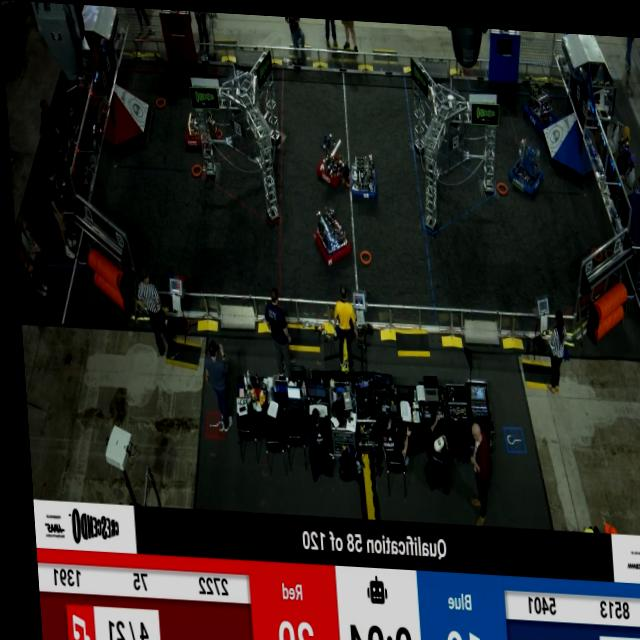Robot: (305, 197, 349, 264), (505, 131, 545, 196), (310, 125, 345, 187), (518, 69, 553, 130), (344, 147, 375, 200), (180, 107, 206, 150)
